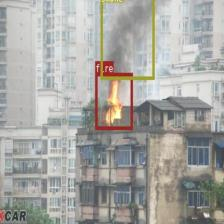fire: (95, 72, 132, 129)
smoke: (100, 0, 154, 79)
